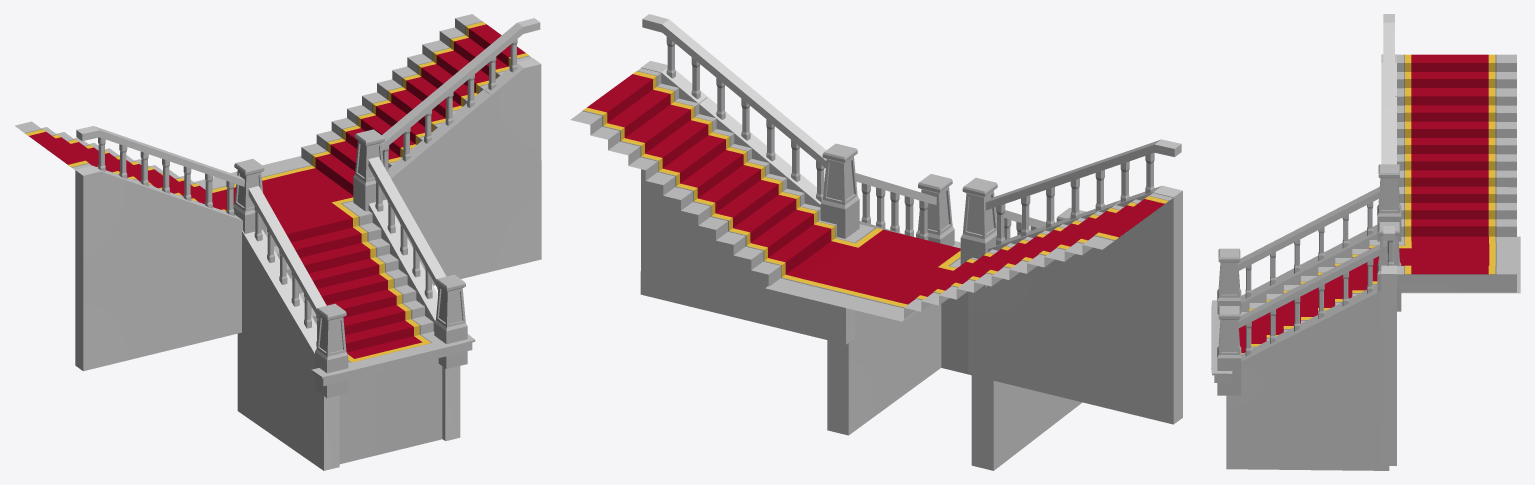
The model's file is Museum_Stairs_Split.fbx.
3 renders of one model, left to right at view 1: azimuth 30°, elevation 25°; view 2: azimuth 150°, elevation 25°; view 3: azimuth 270°, elevation 25°, orthographic. The views are drawn at different scales.
Visible parts, largest first — view 1: Stairs.002, Carpet; view 2: Stairs.002, Carpet; view 3: Stairs.002, Carpet.
Part boxes in pixels (x1,y1,x2,y2): Stairs.002: (15,14,541,470); Carpet: (25,21,529,362); Stairs.002: (570,14,1182,470); Carpet: (582,71,1168,307); Stairs.002: (1211,14,1520,470); Carpet: (1239,54,1496,353).
Bounding box in the file's own units: 1294 × 858 × 770.
